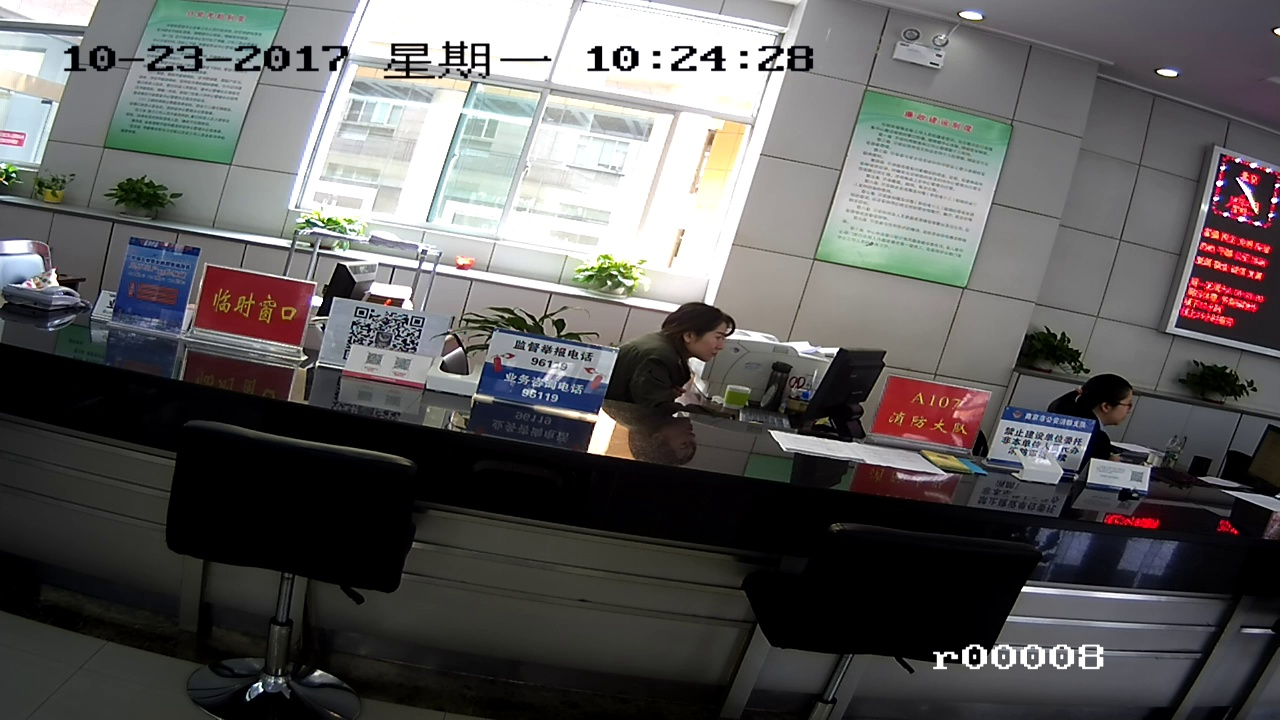billboard: (856, 94, 1007, 285), (116, 1, 260, 164), (482, 345, 606, 412), (203, 275, 300, 347), (890, 376, 977, 454)
chair: (157, 425, 421, 675), (748, 514, 1022, 699)
person: (639, 300, 738, 381), (1072, 373, 1136, 428)
pot: (1018, 324, 1075, 371), (1189, 374, 1254, 413), (297, 215, 359, 254), (114, 179, 166, 219), (585, 263, 630, 305)
